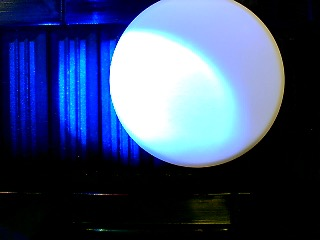BLANK: (109, 1, 285, 168)
